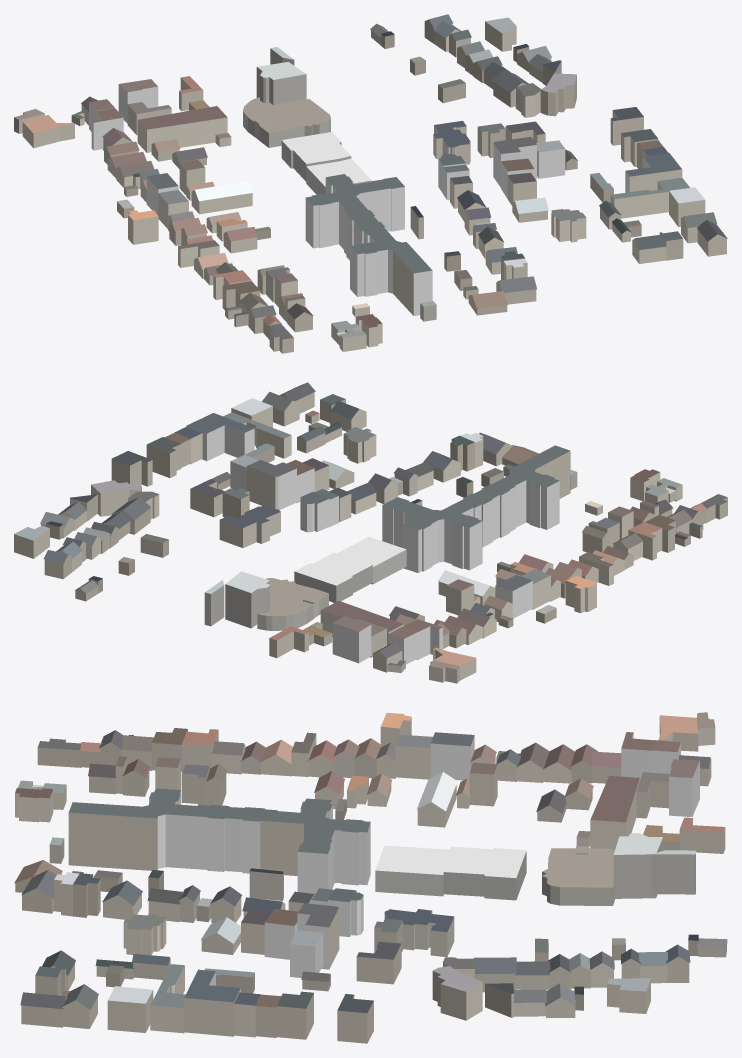
3 renders of one model, top to bottom at view 1: azimuth 30°, elevation 25°; view 2: azimuth 150°, elevation 25°; view 3: azimuth 270°, elevation 25°, orthographic. The views are drawn at different scales.
Parts seen in each view (by area): view 1: tuile; view 2: tuile; view 3: tuile.
Boxes of the visible parts, left/top/right/bottom form: tuile: left=14, top=14, right=727, bottom=353; tuile: left=14, top=382, right=727, bottom=683; tuile: left=14, top=712, right=727, bottom=1043.
Bounding box in the file's own units: 259 × 28.23 × 261.
